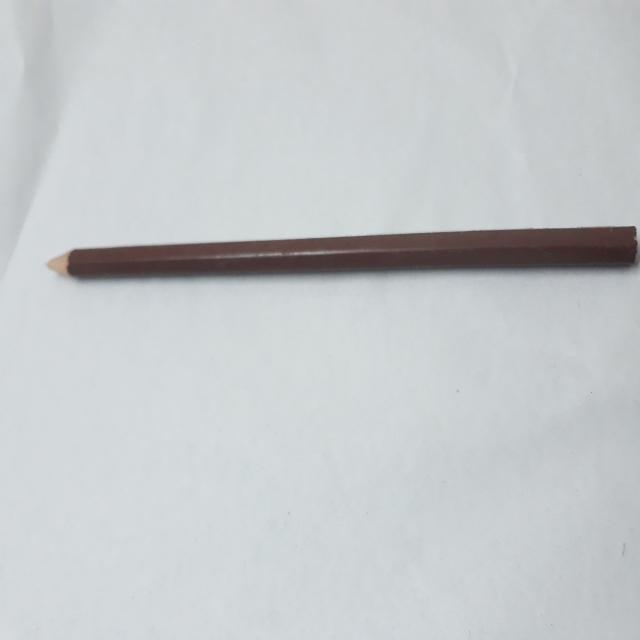pencil: (41, 223, 640, 294)
